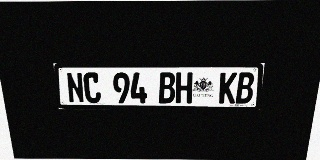4: (130, 72, 147, 103)
9: (113, 72, 130, 103)
B: (235, 72, 255, 104), (159, 72, 175, 103)
C: (83, 72, 101, 103)
H: (176, 72, 193, 103)
K: (218, 72, 237, 103)
N: (66, 72, 85, 103)
